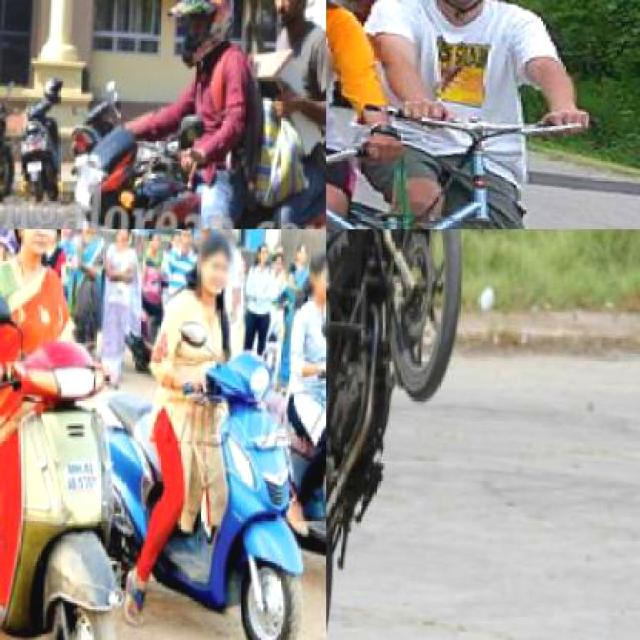With Helmet: (165, 0, 246, 65)
Without Helmet: (198, 229, 244, 285), (15, 229, 63, 257), (270, 0, 316, 25), (309, 238, 325, 300)
